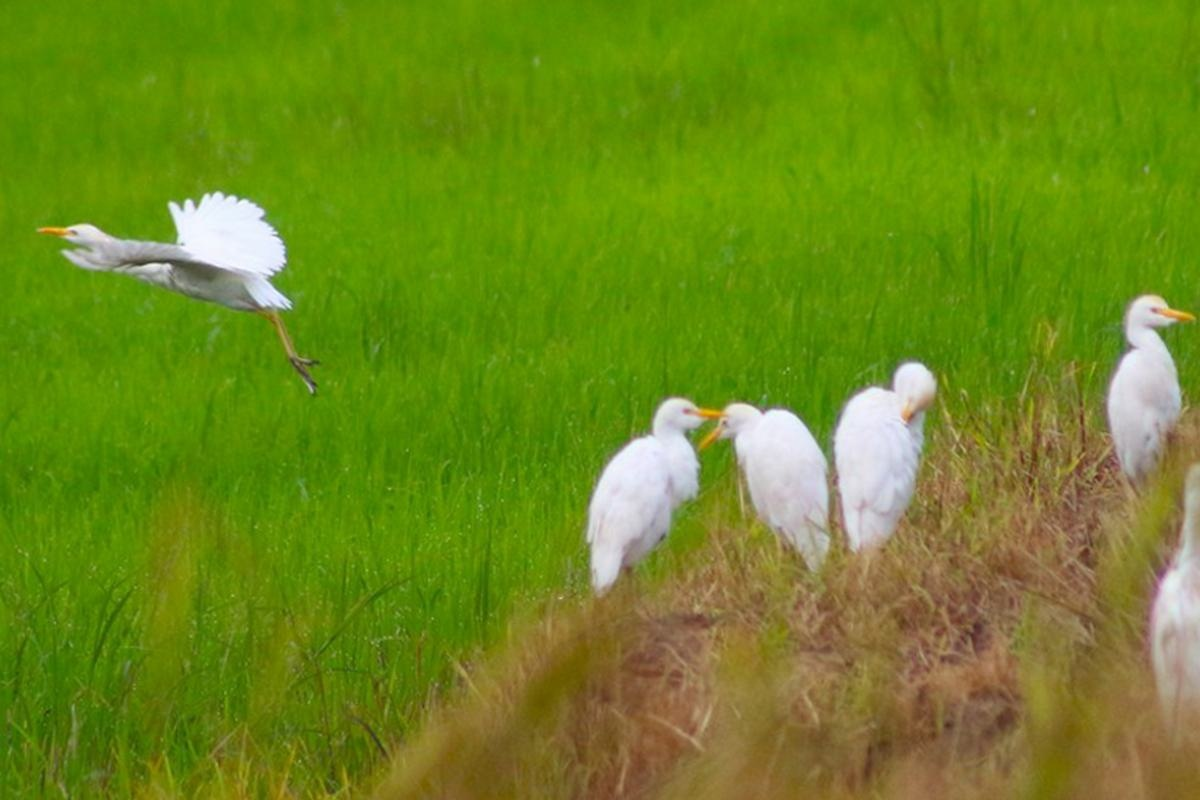egret: (23, 184, 354, 399), (567, 391, 726, 597), (702, 398, 842, 578), (1088, 294, 1197, 481), (845, 358, 938, 569)
